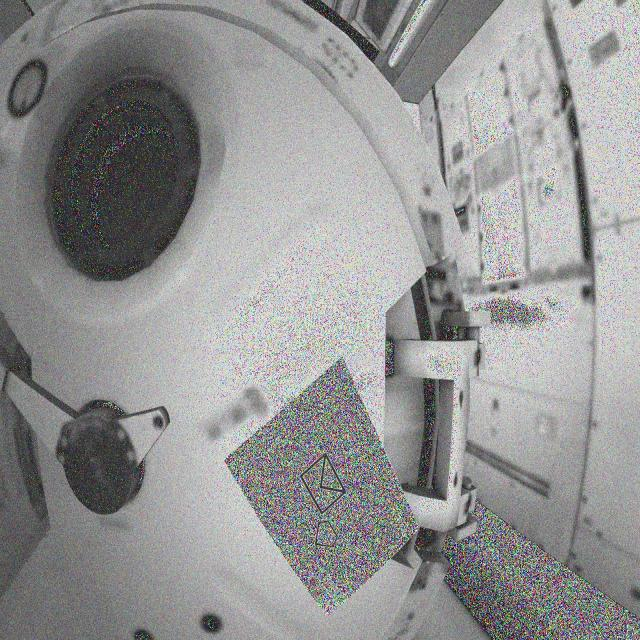diamond: (311, 518, 343, 556)
letter: (303, 451, 351, 519)
